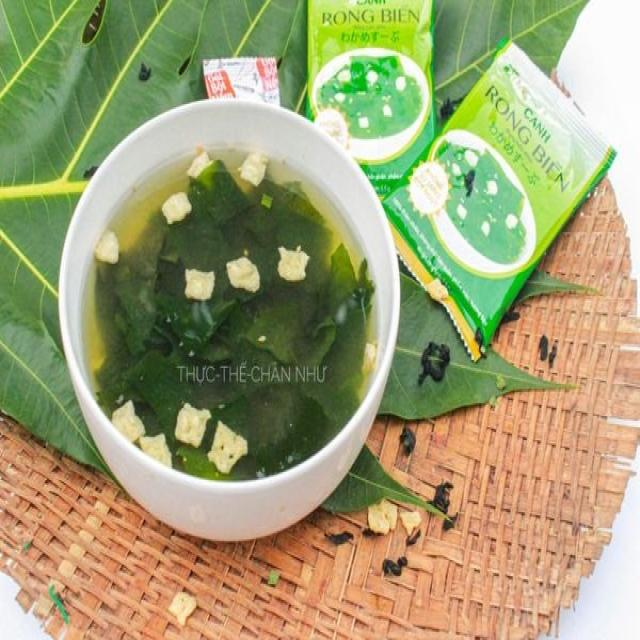canh rong bien: (80, 144, 380, 482)
